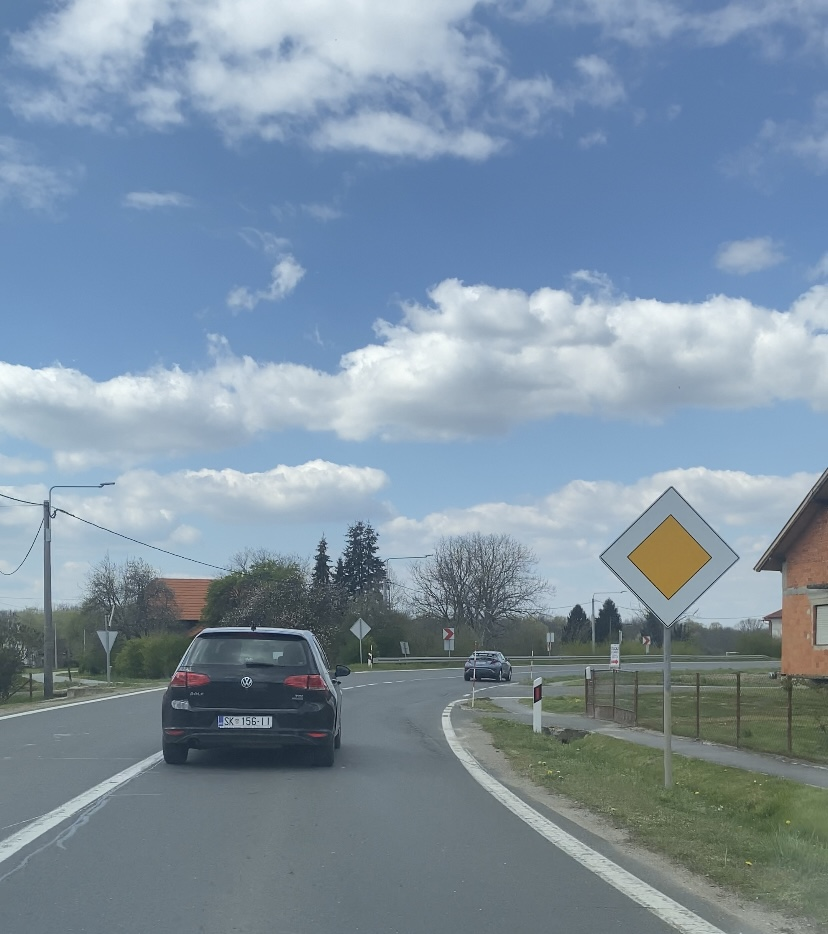Cesta s prednošću prolaska: (599, 486, 740, 628)
